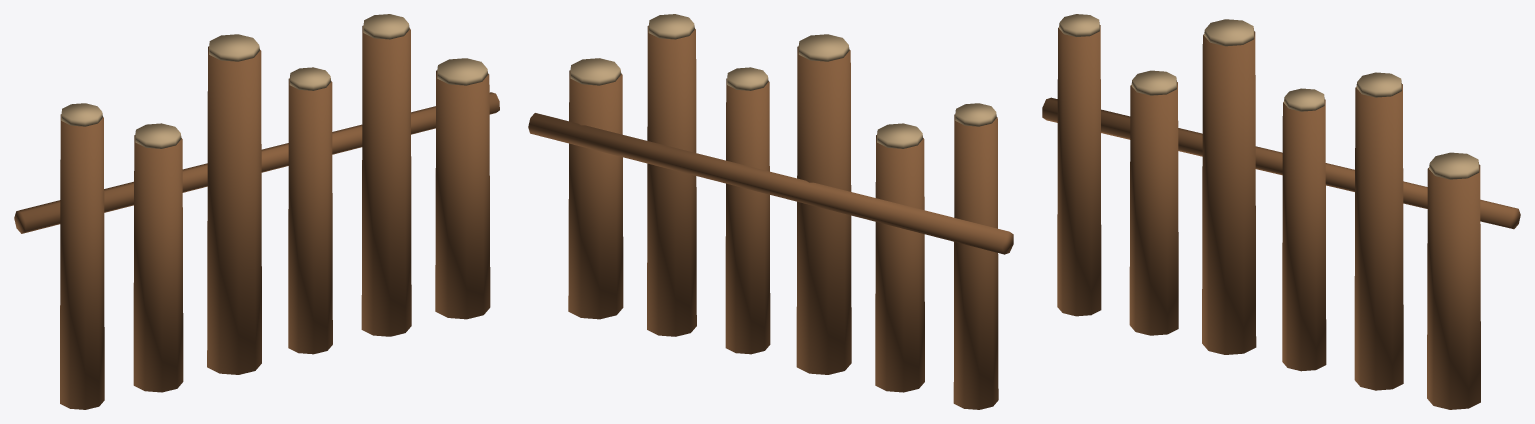
File: fence.glb
3 renders of one model, left to right at view 1: azimuth 30°, elevation 25°; view 2: azimuth 150°, elevation 25°; view 3: azimuth 330°, elevation 25°, orthographic.
Parts seen in each view (by area): view 1: fence; view 2: fence; view 3: fence.
Boxes of the visible parts, box(x1,y1,x2,y2) form: fence: box(14, 14, 499, 409); fence: box(528, 14, 1013, 409); fence: box(1042, 14, 1520, 409).
Bounding box in the file's own units: 2.5 × 1.6 × 0.3062.
